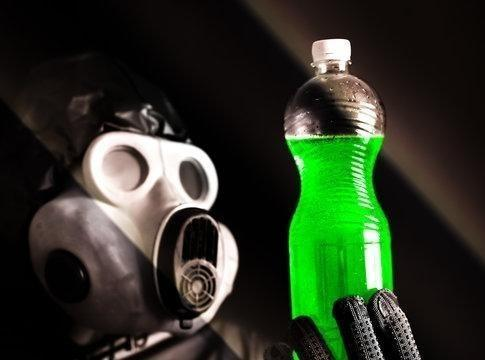bottle-plastic: (281, 34, 397, 356)
